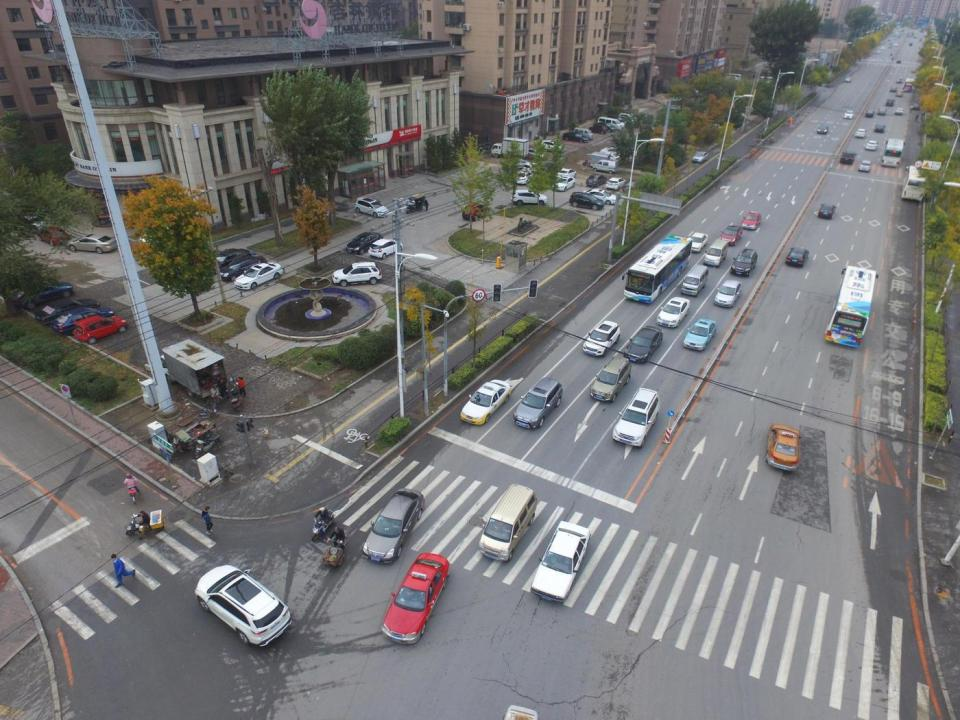bus: (622, 234, 693, 304), (825, 264, 879, 350), (900, 165, 926, 202), (881, 138, 905, 168), (904, 78, 913, 92)
car: (194, 564, 291, 647), (382, 554, 449, 644), (529, 520, 591, 603), (363, 488, 424, 564), (613, 386, 660, 446), (513, 377, 562, 429), (460, 379, 512, 425), (51, 306, 114, 335), (590, 357, 631, 401), (767, 422, 803, 472), (13, 281, 74, 310), (35, 298, 100, 325), (73, 316, 128, 344), (624, 325, 663, 364), (583, 319, 620, 357), (333, 261, 381, 287), (234, 263, 282, 289), (219, 256, 267, 281), (683, 318, 717, 351), (66, 234, 118, 255), (656, 296, 690, 328), (207, 248, 250, 269), (346, 232, 382, 255), (714, 279, 742, 308), (730, 248, 758, 276), (354, 197, 389, 218), (368, 239, 403, 259), (38, 226, 70, 247), (569, 191, 604, 210), (462, 202, 490, 221), (785, 247, 809, 267), (719, 225, 743, 245), (587, 190, 618, 205), (689, 232, 709, 253), (22, 214, 46, 231), (740, 211, 760, 229), (552, 176, 575, 190), (562, 132, 589, 143), (585, 174, 607, 187), (542, 140, 565, 152), (818, 203, 835, 219), (606, 176, 625, 190), (516, 170, 534, 184), (609, 115, 630, 126), (557, 168, 576, 180), (840, 151, 857, 164), (588, 123, 608, 134), (508, 158, 527, 169), (692, 150, 708, 163), (623, 180, 641, 191), (618, 113, 636, 124), (522, 163, 538, 174), (858, 159, 871, 172), (596, 123, 614, 132), (854, 128, 867, 139), (865, 140, 878, 151), (817, 125, 828, 134), (874, 124, 886, 132), (844, 110, 854, 118), (866, 110, 874, 118), (894, 108, 903, 115), (896, 89, 903, 97), (886, 98, 893, 106), (878, 108, 886, 115), (889, 86, 897, 92), (896, 78, 903, 83), (844, 77, 850, 82), (911, 67, 916, 73)
truck: (159, 338, 228, 398)
van: (480, 484, 538, 562), (681, 264, 709, 298), (705, 239, 728, 266), (597, 116, 623, 130), (592, 160, 616, 174), (574, 127, 592, 138)
